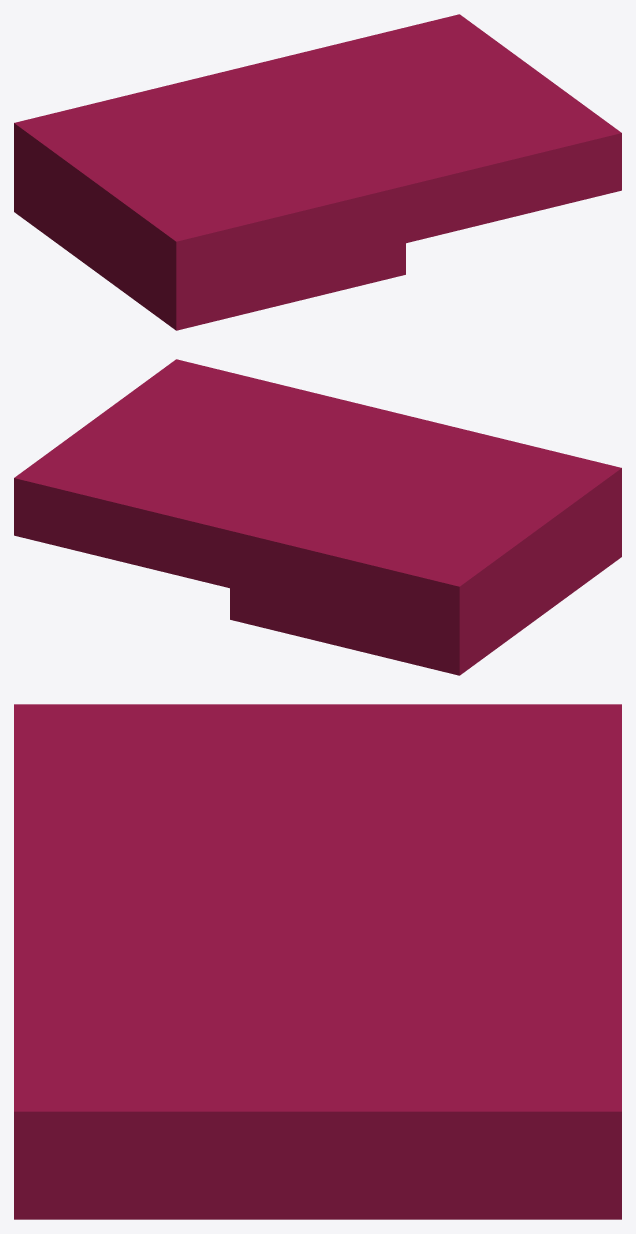
Rendered from GardenPlatform7.fbx.
3 renders of one model, top to bottom at view 1: azimuth 30°, elevation 25°; view 2: azimuth 150°, elevation 25°; view 3: azimuth 270°, elevation 25°, orthographic. The views are drawn at different scales.
Parts seen in each view (by area): view 1: GardenPlatform7; view 2: GardenPlatform7; view 3: GardenPlatform7.
Boxes of the visible parts, <box> form: GardenPlatform7: <box>14,14,621,330</box>; GardenPlatform7: <box>14,359,621,675</box>; GardenPlatform7: <box>14,704,621,1219</box>.
Bounding box in the file's own units: 1075 × 205 × 678.
